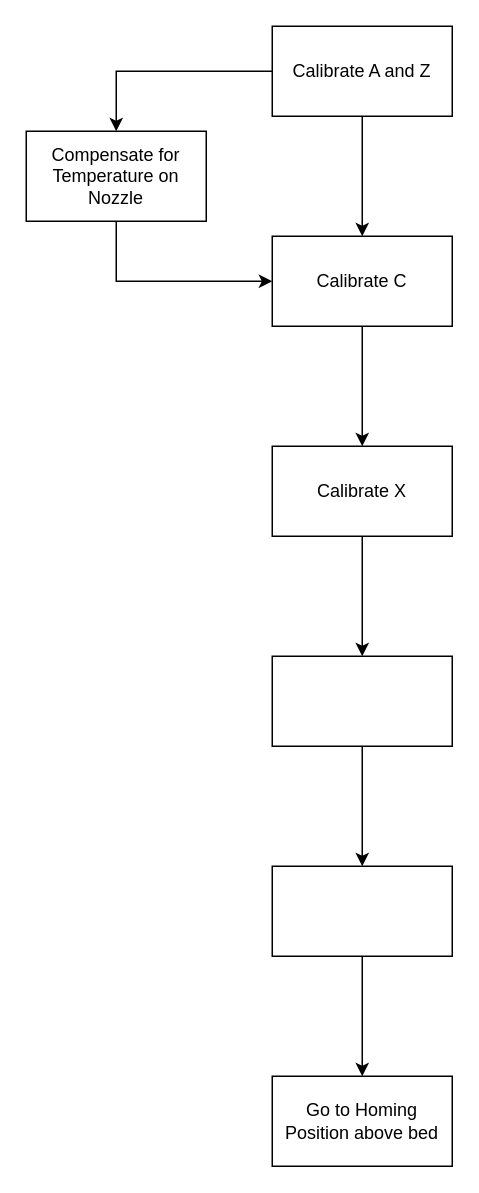
This 479x1193 diagram has some shape labels left out. Each missing label, with the centre of its shape:
"Calibrate A und Z again" belongs at (361,910).
"Calibrate Y" belongs at (361,700).
